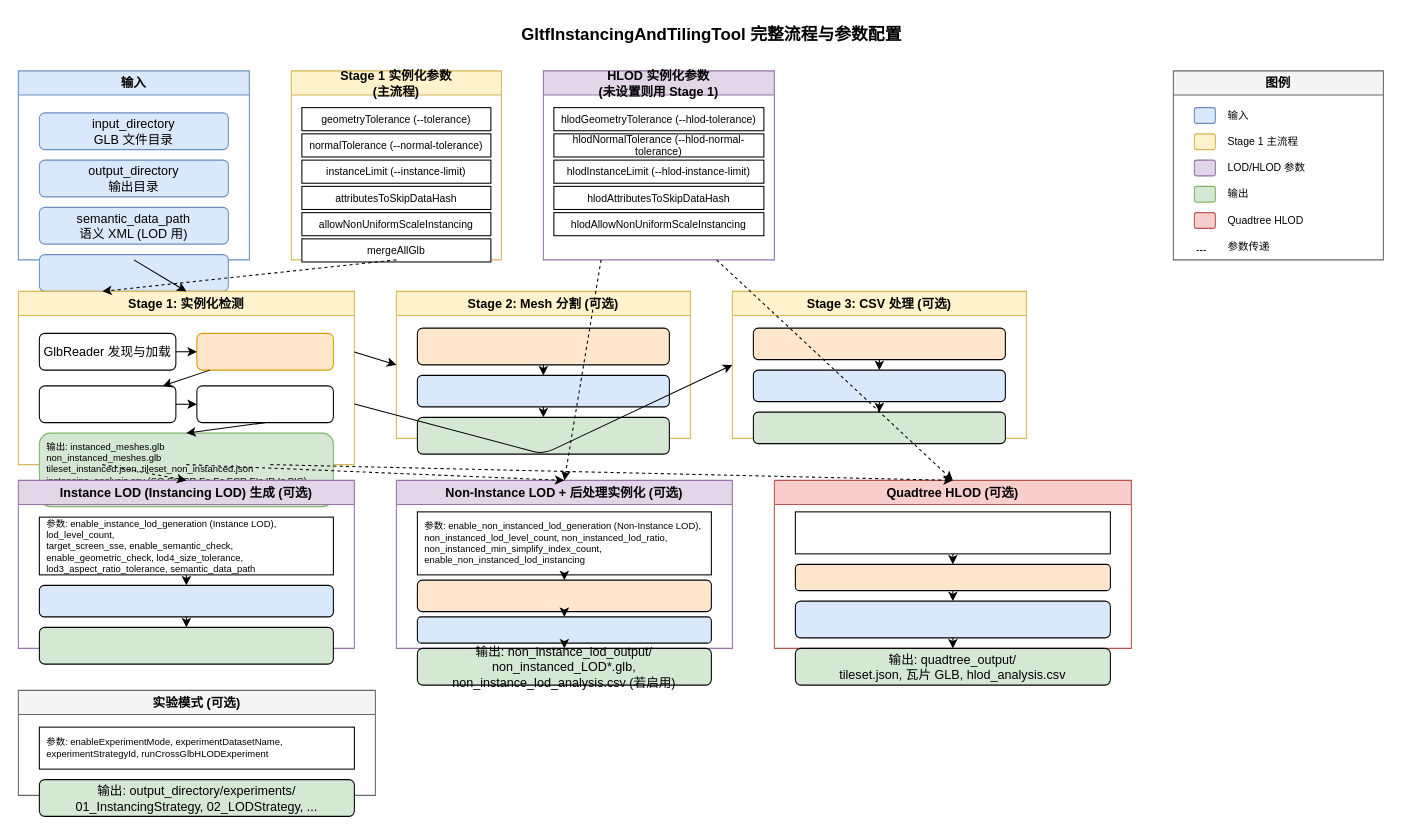
The diagram is 1402 pixels wide and 835 high, and some of its shapes have lost their labels. Each missing label, with the centre of its shape:
"csv_directory CSV 目录 (Stage 3 用)" goes at (133,272).
"GlbWriter 输出" goes at (107,404).
"InstancingDetector Stage 1 参数" goes at (264,351).
"TilesetWriter" goes at (264,404).
"参数: csv_directory (--csv-dir)" goes at (878,343).
"参数: enableQuadtree, quadtreeMaxDepth, quadtreeMaxObjectsPerTile" goes at (952,532).
"参数: meshSegmentation (--mesh-segmentation)" goes at (542,346).
"实例化用: HLOD 参数 (getHlodInstancingParams)" goes at (563,595).
"瓦片内实例化: HLOD 参数" goes at (952,577).
"输入: instanced_meshes (detectionResult + loadedModels) + 语义 XML" goes at (185,600).
"输入: non_instanced_meshes.glb" goes at (563,629).
"输入: non_instanced_meshes.glb (或 segmented_glb_output 若 meshSegmentation)" goes at (952,619).
"输入: non_instanced_meshes.glb + CSV 目录" goes at (878,385).
"输入: stage1_outputGlbs (instanced + non_instanced)" goes at (542,390).
"输出: CSV 对比报告" goes at (878,427).
"输出: instance_lod_output/ LOD1~5.glb, tileset.json, instance_lod_analysis.csv" goes at (185,645).
"输出: segmented_glb_output/ 每个 mesh 单独 GLB" goes at (542,435).
